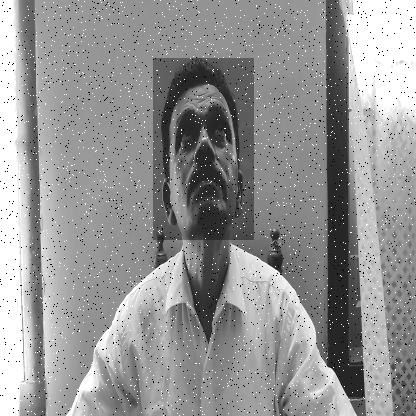Distracted: (153, 58, 254, 240)
